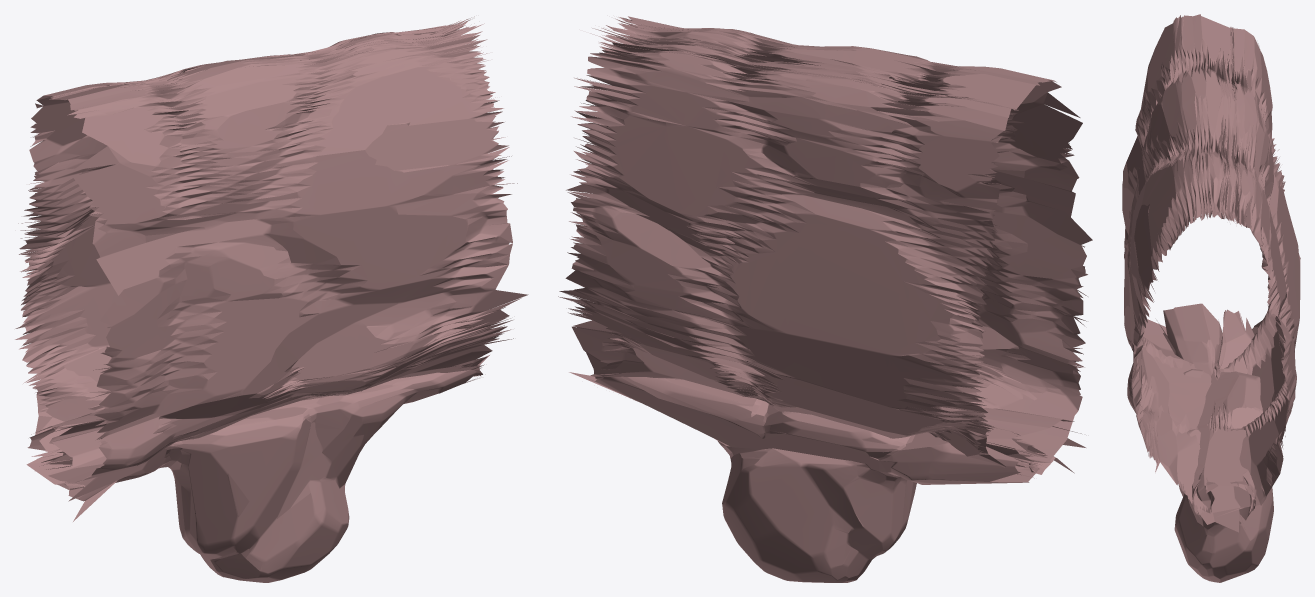
The model's file is mini_canyon.fbx_Cube__12__007LODs.fbx.
3 views of the same model, side by side, from view 1: azimuth 30°, elevation 25°; view 2: azimuth 150°, elevation 25°; view 3: azimuth 270°, elevation 25° (orthographic). The views are drawn at different scales.
Visible parts, largest first — view 1: Cube (12).007_LOD0; view 2: Cube (12).007_LOD0; view 3: Cube (12).007_LOD0.
Part boxes in pixels (x1,y1,x2,y2): Cube (12).007_LOD0: (15, 16, 528, 582); Cube (12).007_LOD0: (558, 16, 1092, 582); Cube (12).007_LOD0: (1122, 14, 1300, 582).
Size of what is drawn, in the model's own units: 2137 by 2307 by 799.
